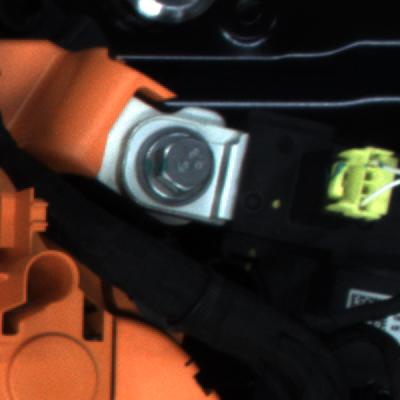nut_b: (130, 120, 225, 217)
